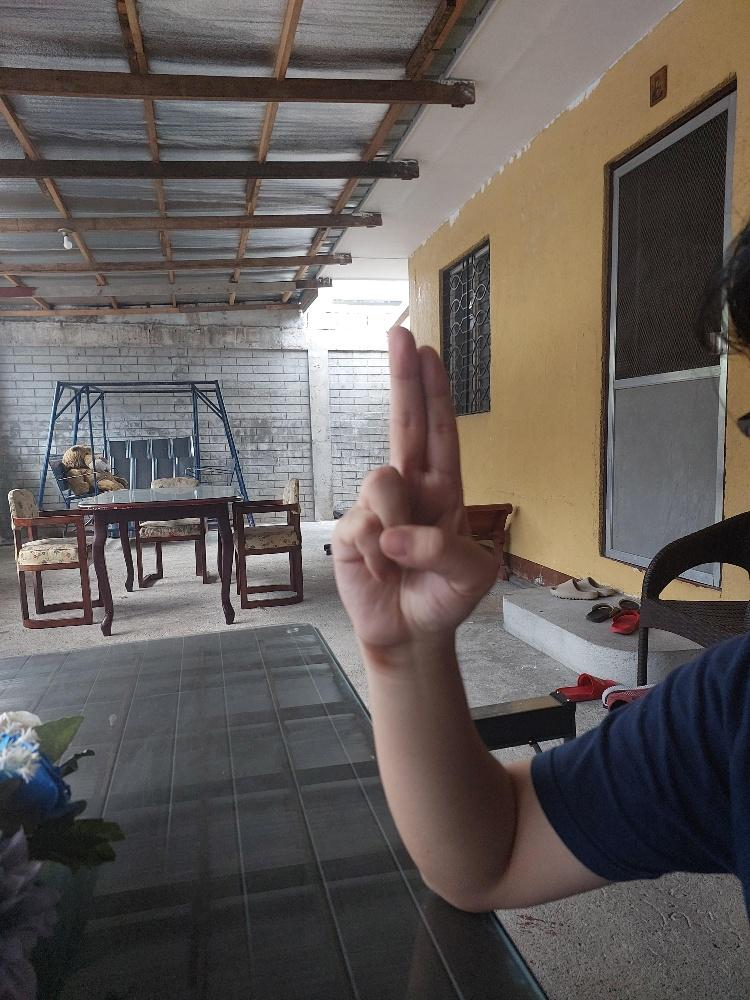u: (328, 320, 503, 654)
